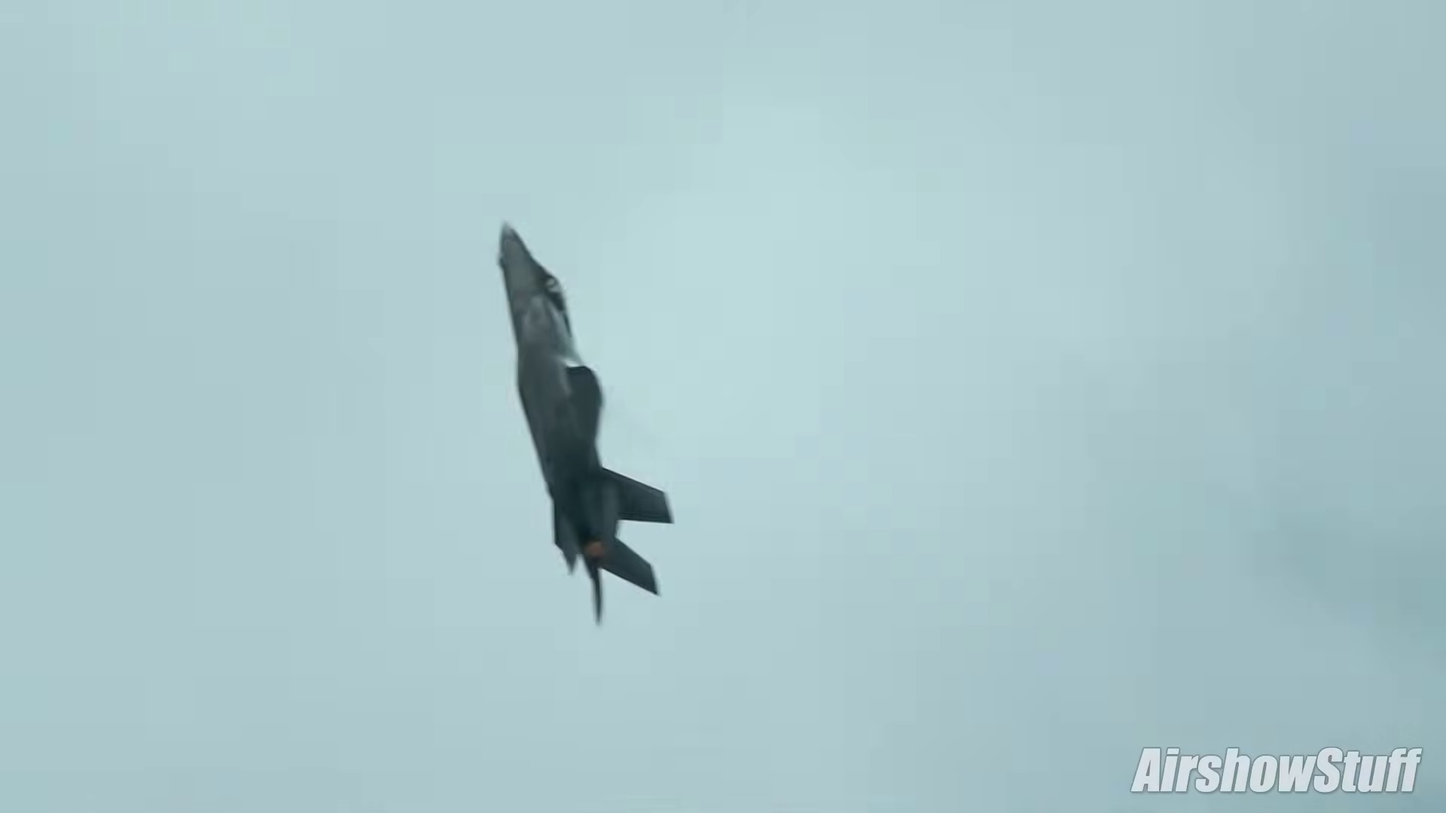F35: (494, 217, 681, 631)
